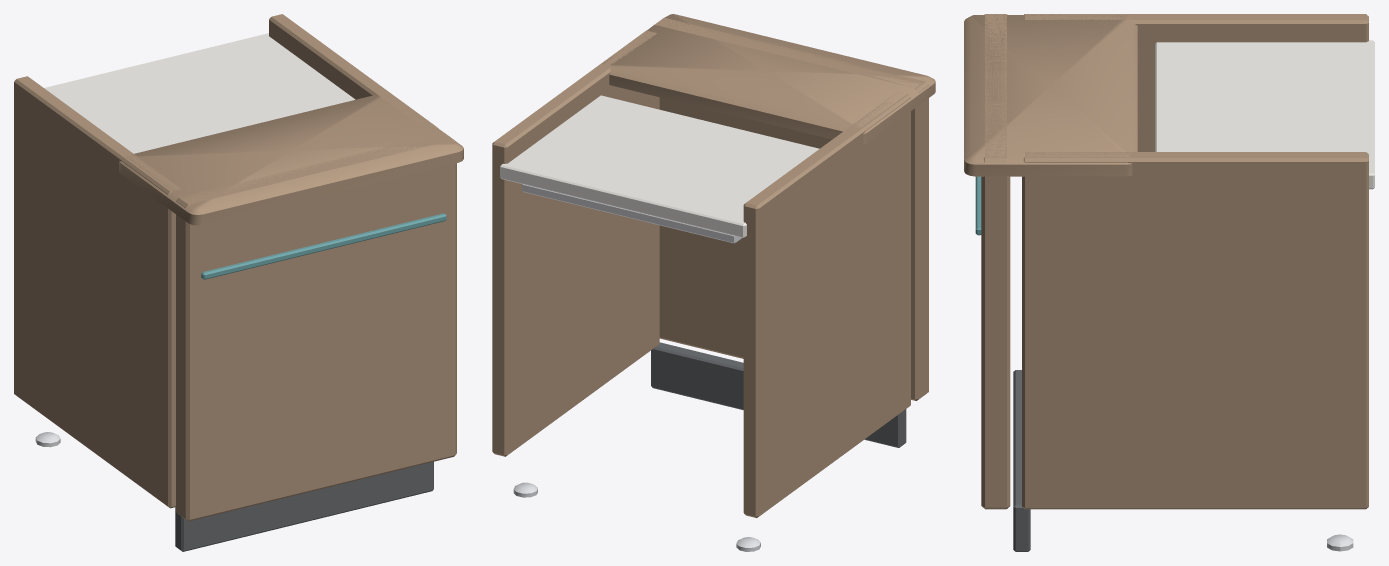
The model's file is hotel-and-resort-operations-check-in-desk-accessible-a0a2acbf__25853.glb.
3 views of the same model, side by side, from view 1: azimuth 30°, elevation 25°; view 2: azimuth 150°, elevation 25°; view 3: azimuth 270°, elevation 25° (orthographic). The views are drawn at different scales.
Visible parts, largest first — view 1: check-in-desk-accessible; view 2: check-in-desk-accessible; view 3: check-in-desk-accessible.
Boxes of the visible parts, left/top/right/bottom form: check-in-desk-accessible: left=14, top=14, right=463, bottom=551; check-in-desk-accessible: left=492, top=14, right=935, bottom=551; check-in-desk-accessible: left=964, top=14, right=1374, bottom=551.
Size of the model in its own units: 0.606 by 0.76 by 0.71.
